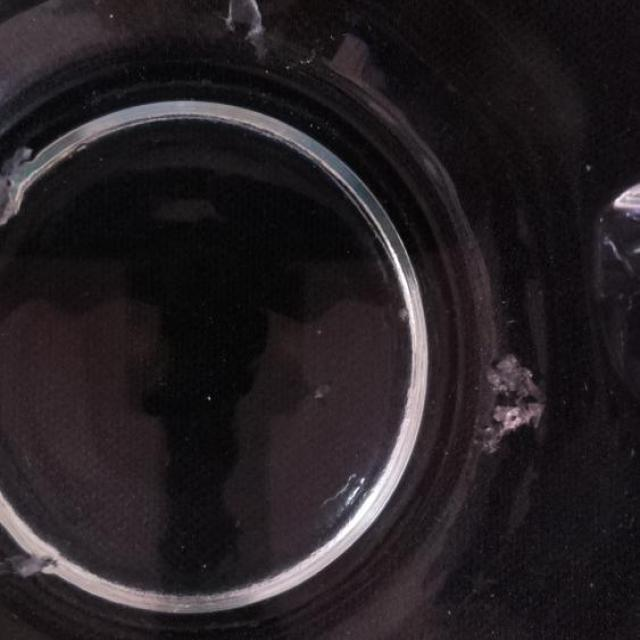fiber: (481, 350, 548, 458), (324, 28, 391, 92), (223, 1, 281, 60), (313, 472, 370, 532), (0, 139, 36, 224), (5, 546, 61, 591)
